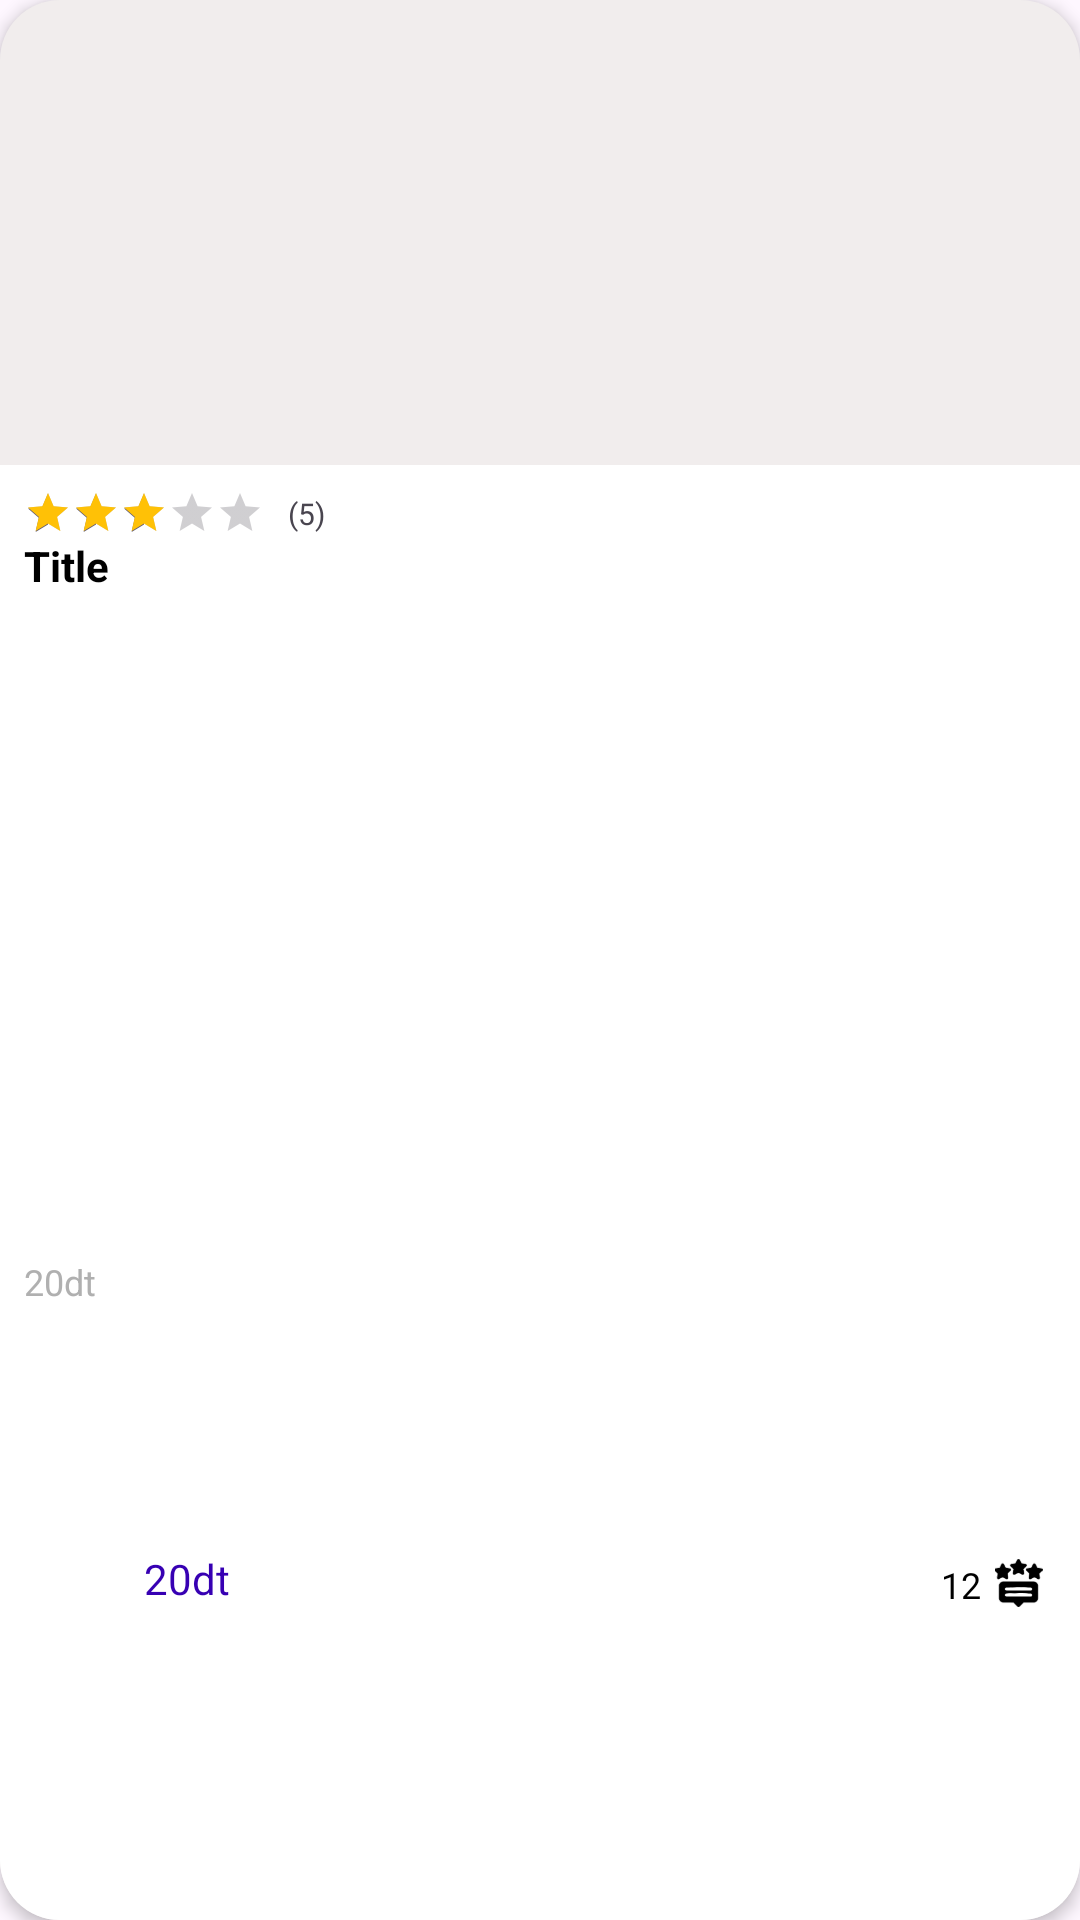

Icons on this 1080×1920 Android screen, each with the point to tap as [x,y]:
review: [1019,1583]
